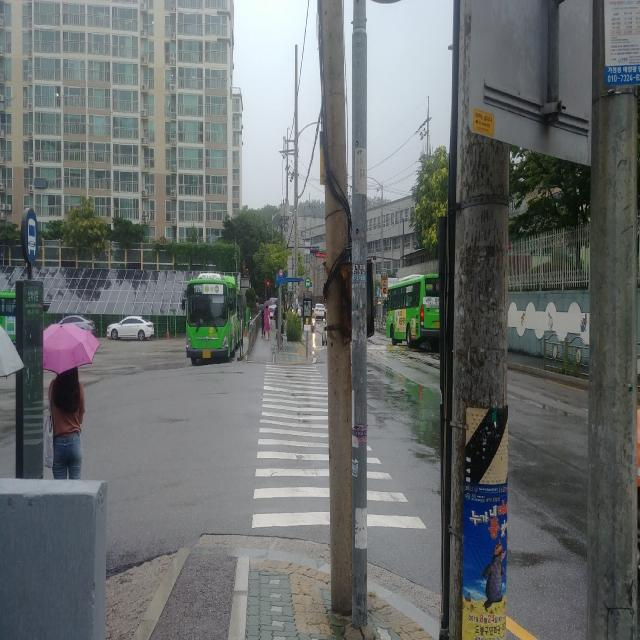횡단보도: (250, 362, 428, 532)
